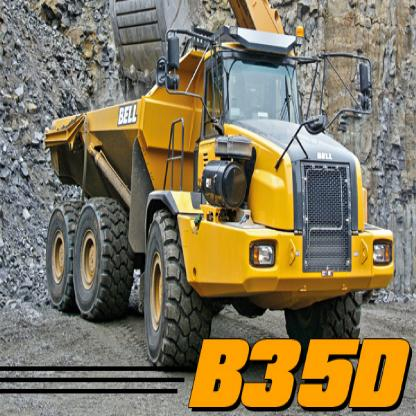dump_truck: (51, 30, 399, 335)
